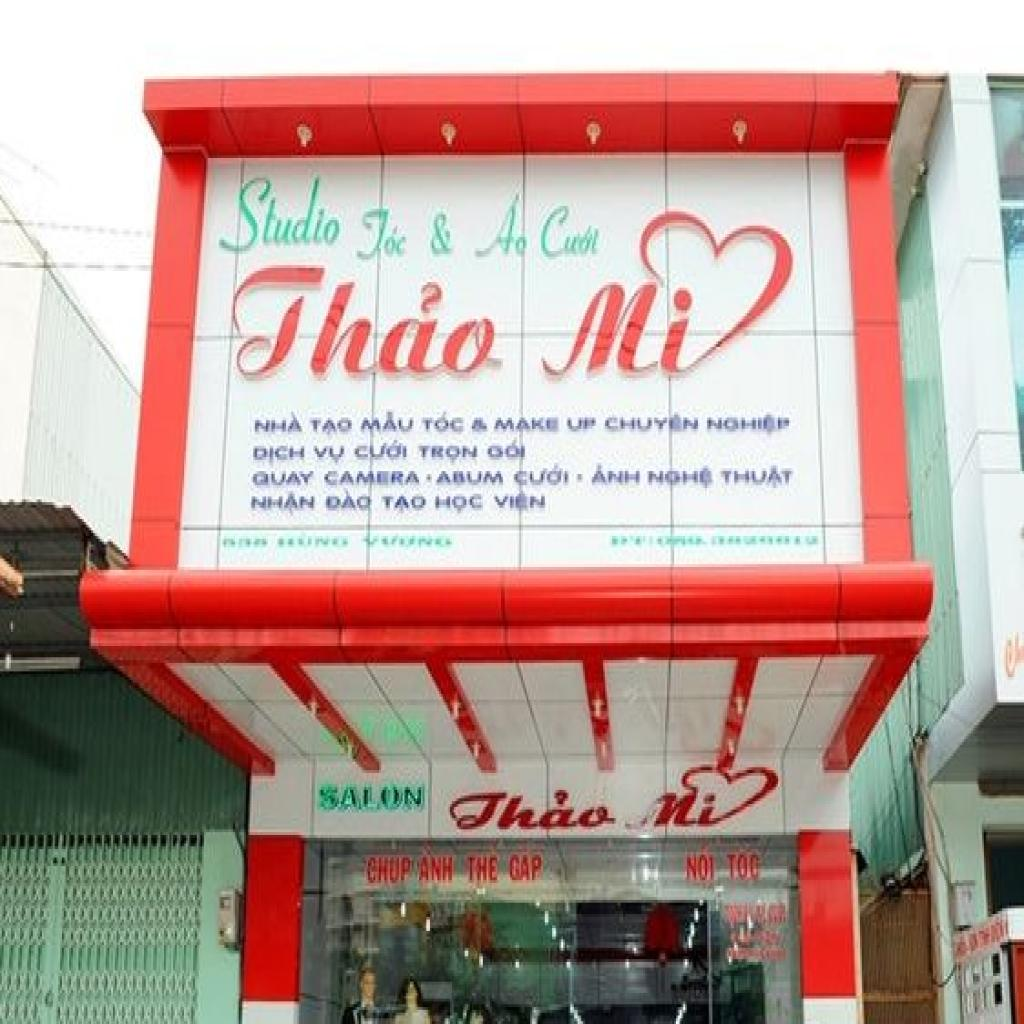text: (525, 206, 825, 389), (220, 265, 523, 387), (213, 172, 352, 260), (622, 765, 804, 832), (443, 784, 630, 838), (472, 186, 536, 265), (538, 200, 612, 265), (317, 779, 430, 818), (355, 200, 419, 265), (603, 406, 703, 440), (704, 409, 796, 440), (510, 457, 590, 491), (324, 468, 439, 491), (363, 530, 461, 556), (720, 462, 798, 494), (647, 462, 718, 494), (250, 488, 322, 519), (275, 530, 355, 556), (508, 840, 548, 892), (492, 409, 565, 437), (361, 404, 419, 438), (590, 457, 647, 491), (428, 206, 461, 262), (417, 440, 483, 468), (364, 854, 418, 888), (251, 440, 310, 471), (250, 468, 320, 494), (434, 468, 510, 491), (494, 488, 550, 519), (419, 406, 470, 440), (417, 849, 459, 889), (353, 438, 412, 466), (324, 488, 377, 519), (464, 852, 506, 891), (253, 409, 310, 437), (685, 846, 722, 889), (434, 491, 490, 519), (725, 849, 765, 886), (381, 491, 432, 519), (308, 412, 357, 440), (608, 527, 658, 553), (487, 437, 532, 463), (311, 440, 350, 466), (567, 412, 601, 437), (470, 412, 492, 437)
